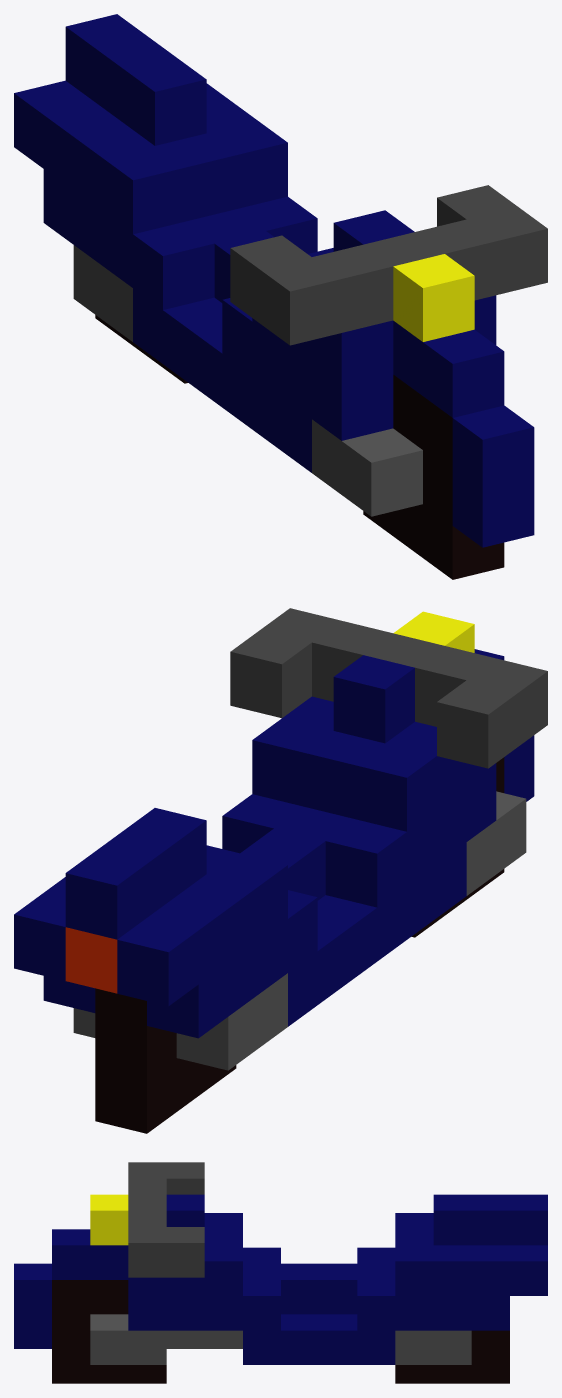
The model's file is BIKE5.obj.
3 renders of one model, top to bottom at view 1: azimuth 30°, elevation 25°; view 2: azimuth 150°, elevation 25°; view 3: azimuth 270°, elevation 25°, orthographic. The views are drawn at different scales.
Bounding box in the file's own units: 0.5 × 0.5 × 1.4.
1 material, 1 textured.
